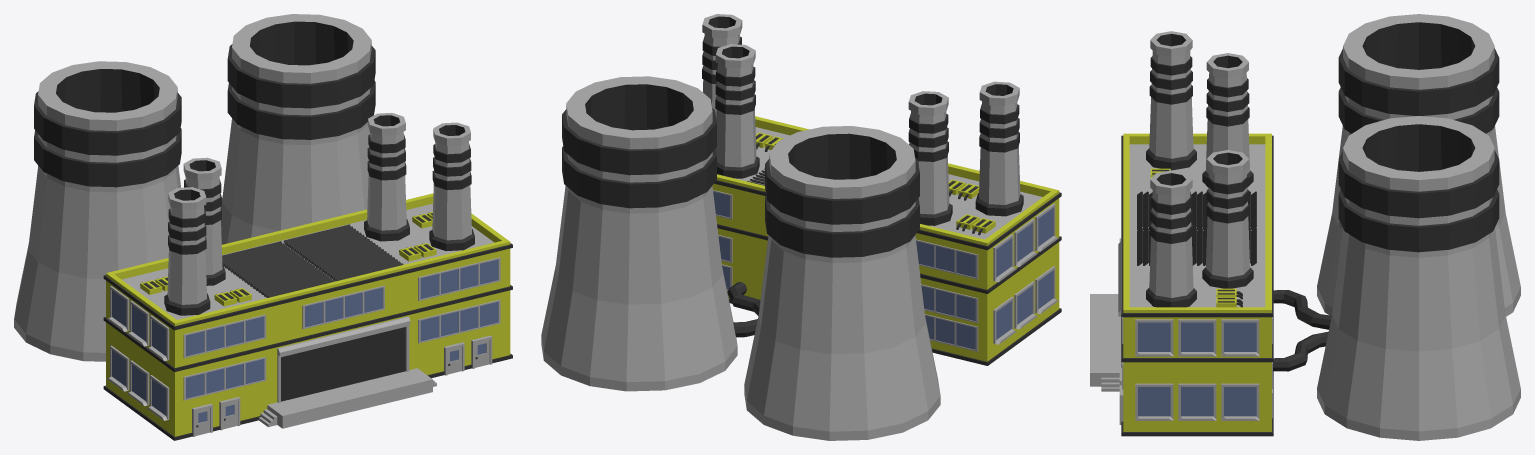
Rendered from Factory3_3.fbx.
The picture shows the model from 3 angles, left to right: view 1: azimuth 30°, elevation 25°; view 2: azimuth 150°, elevation 25°; view 3: azimuth 270°, elevation 25°; orthographic projection. The views are drawn at different scales.
Parts seen in each view (by area): view 1: Building2_1.011; view 2: Building2_1.011; view 3: Building2_1.011.
Part boxes in pixels (bbox=[...]): Building2_1.011: bbox=[14, 14, 512, 440]; Building2_1.011: bbox=[541, 14, 1061, 440]; Building2_1.011: bbox=[1090, 14, 1520, 440].
Size of the model in its own units: 1739 by 1077 by 1682.
